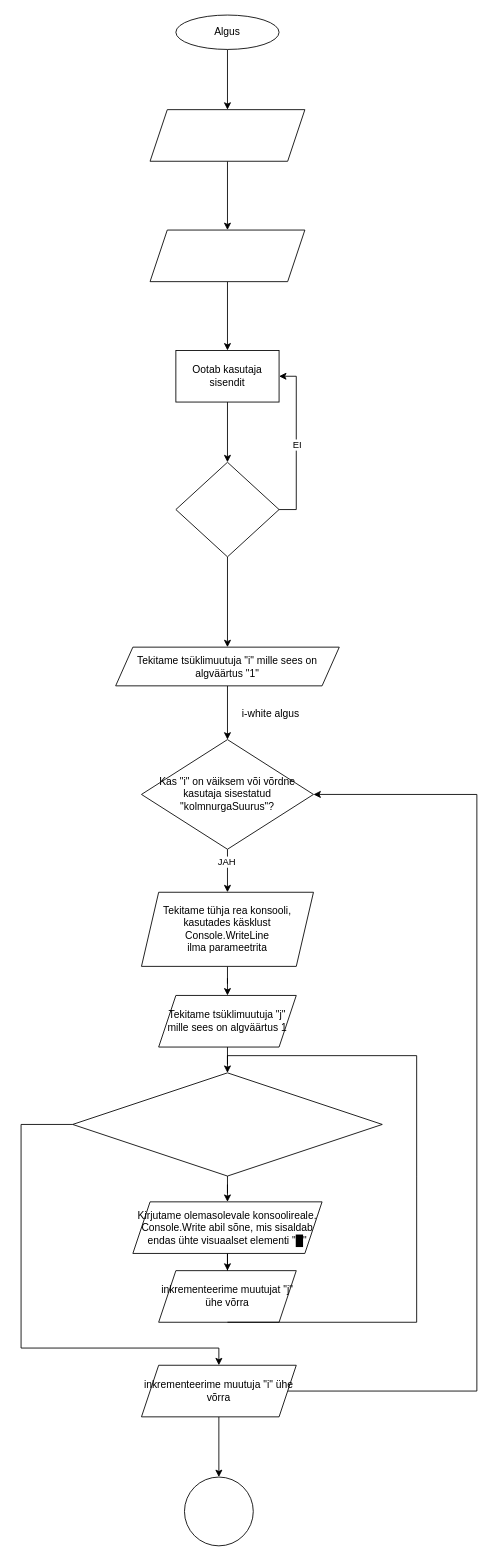
This 499x1561 diagram has some shape labels left out. Each missing label, with the box of its shape:
Kas "j" on väiksem või võrdne kui eelmise while trükimuutuja "i": (72, 1072, 382, 1176)
Kas kasutaja on sisestanud arvu?: (175, 461, 279, 557)
Kuva kasutajale tekst "Joonistan sulle kolmnurga": (149, 109, 305, 161)
Lõpp: (184, 1476, 253, 1546)
Tekitame muutuja nimega "kolmnurgaSuurus" kuhu tuleb käsurealt täisarv: (149, 229, 305, 282)
